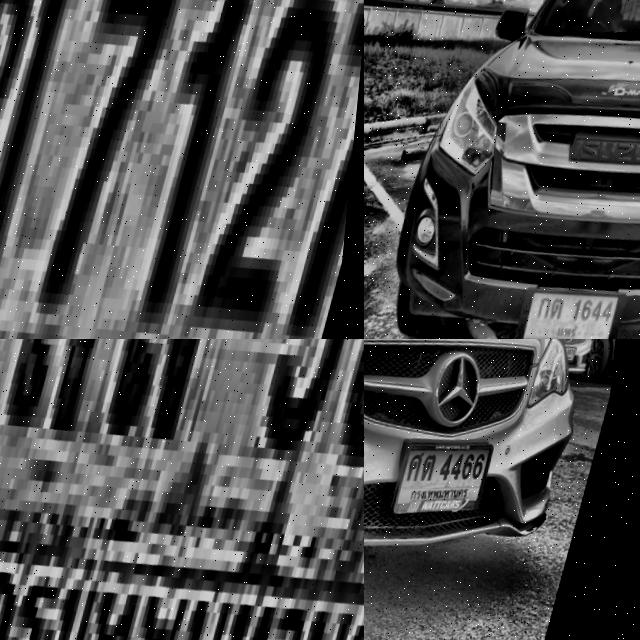license-plate: (0, 0, 364, 339), (0, 339, 364, 640), (391, 435, 507, 544), (525, 280, 636, 339), (565, 353, 588, 375)
